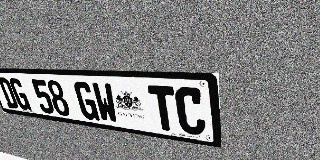5: (31, 79, 56, 114)
8: (45, 80, 71, 117)
C: (174, 86, 206, 136)
D: (0, 77, 20, 109)
G: (73, 81, 100, 121), (8, 78, 32, 111)
T: (147, 85, 178, 132)
W: (91, 82, 119, 124)
